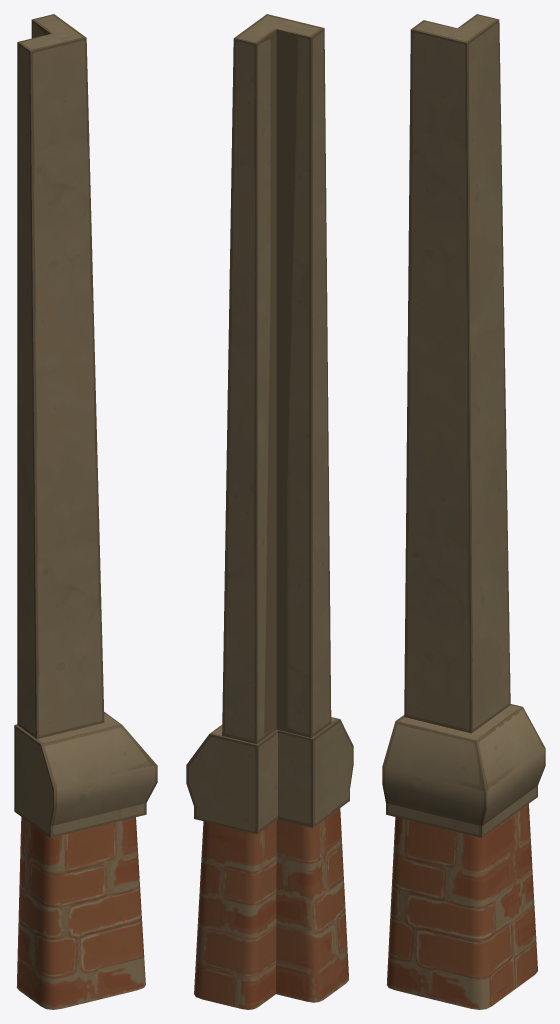
The model's file is SM_building_column_03.glb.
3 views of the same model, side by side, from view 1: azimuth 30°, elevation 25°; view 2: azimuth 150°, elevation 25°; view 3: azimuth 330°, elevation 25° (orthographic). The views are drawn at different scales.
Visible parts, largest first — view 1: SM_building_column_03; view 2: SM_building_column_03; view 3: SM_building_column_03.
Part boxes in pixels (bbox=[...]): SM_building_column_03: bbox=[14, 14, 157, 1009]; SM_building_column_03: bbox=[186, 14, 353, 1009]; SM_building_column_03: bbox=[382, 14, 545, 1009].
Bounding box in the file's own units: 0.4737 × 4 × 0.472.
2 materials, 2 textured.
